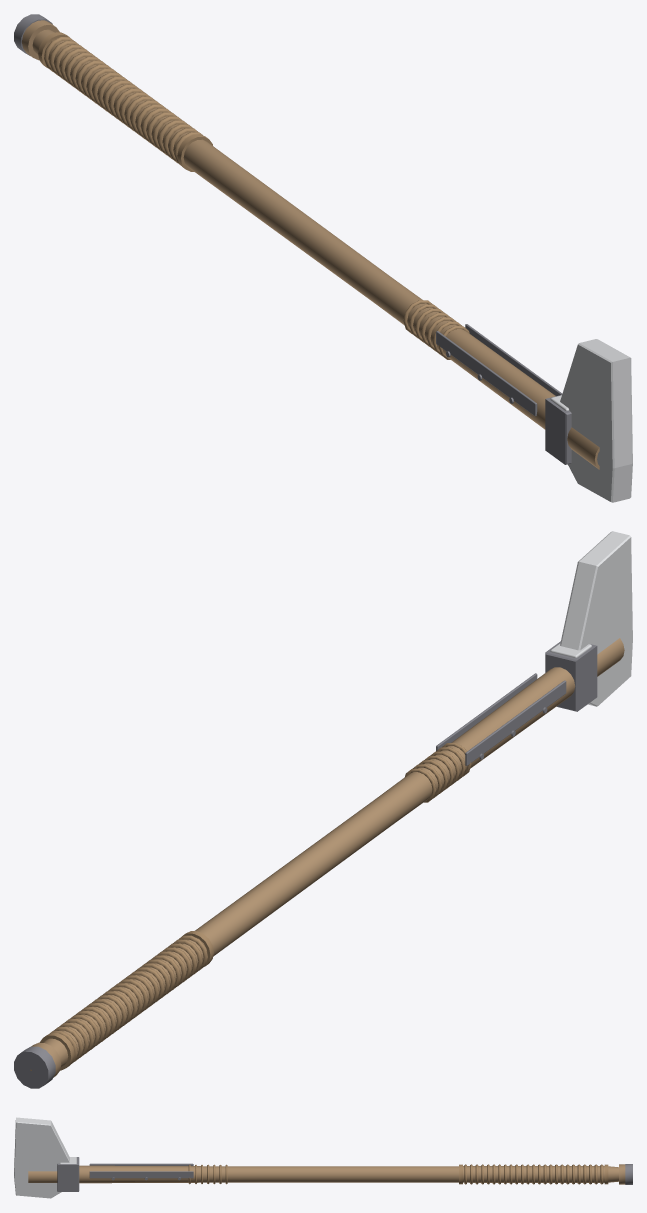
The model's file is dane-axe.glb.
3 views of the same model, one above another, from view 1: azimuth 30°, elevation 25°; view 2: azimuth 150°, elevation 25°; view 3: azimuth 270°, elevation 25° (orthographic). The views are drawn at different scales.
Parts seen in each view (by area): view 1: dane-axe; view 2: dane-axe; view 3: dane-axe.
Boxes of the visible parts, left/top/right/bottom form: dane-axe: left=14, top=14, right=632, bottom=502; dane-axe: left=14, top=531, right=632, bottom=1088; dane-axe: left=14, top=1117, right=632, bottom=1198.
Size of the model in its own units: 0.0448 by 0.1791 by 1.31.
